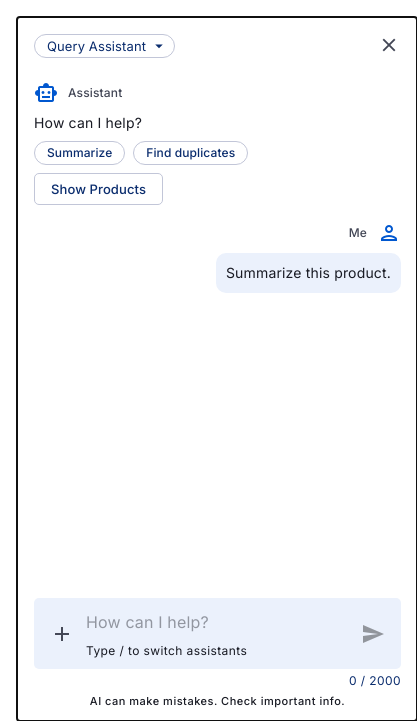
Test case: ThemedChatPanel › hides the native attach picker when requested and presents host-owned tools
Click the button named "Add tools".
click(62, 634)  # box [46,618,78,650]
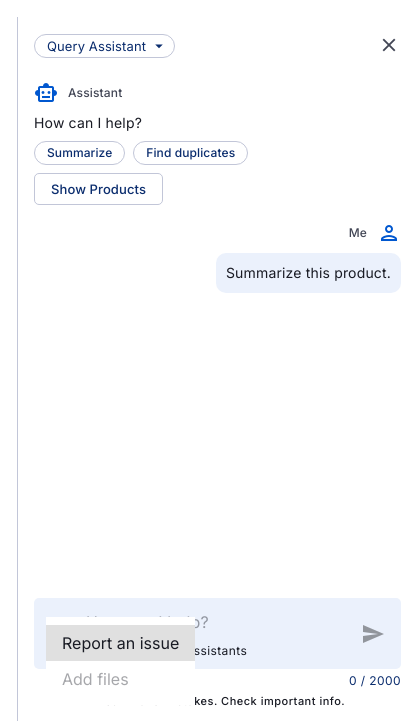
Result: the button named "Add tools" is expanded at [46,618,78,650]
Click the menu item "Report an issue".
click(121, 643)  # box [46,625,195,661]
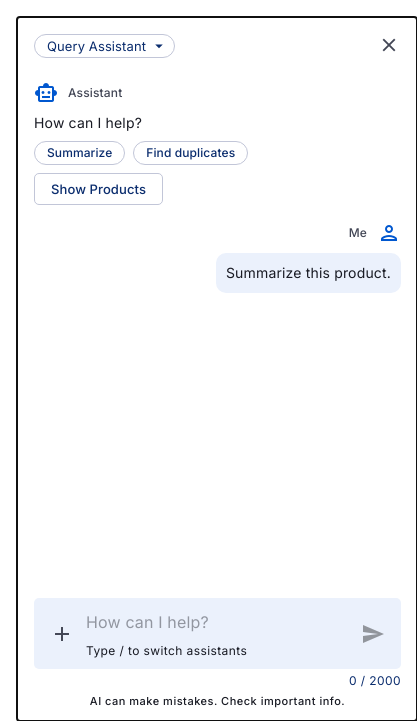
Result: the button named "Add tools" is collapsed at [46,618,78,650]
